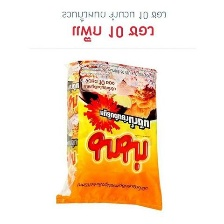snack: (46, 56, 168, 217)
